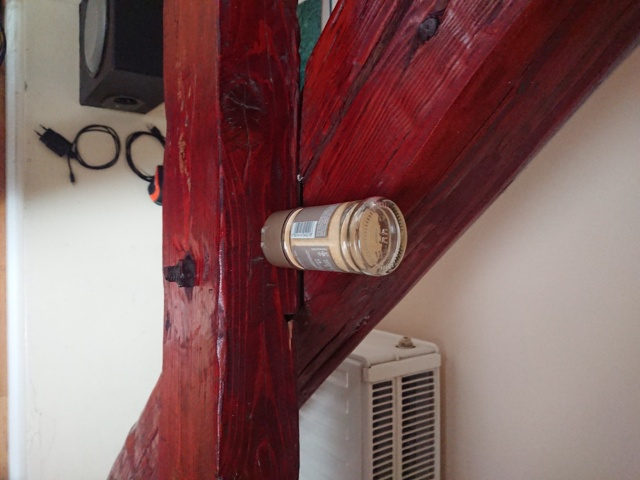Kotanyi Garlic Granules 70g: (257, 194, 410, 279)
